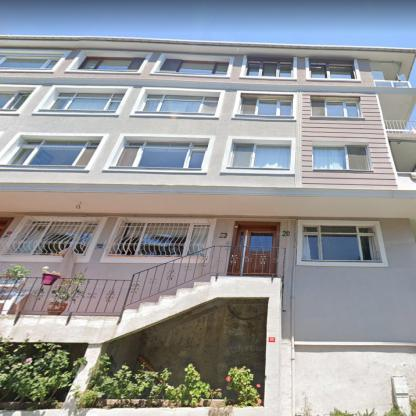door: (233, 229, 274, 274)
window: (113, 222, 209, 255), (12, 221, 97, 252), (304, 226, 377, 260), (116, 143, 207, 168), (6, 142, 99, 165), (230, 144, 289, 168), (141, 96, 218, 113), (50, 93, 124, 110), (314, 147, 368, 169), (160, 59, 229, 74), (240, 98, 292, 115), (80, 57, 144, 70), (0, 56, 60, 69), (311, 101, 360, 116), (245, 62, 293, 76), (312, 64, 356, 78), (0, 94, 30, 108)
